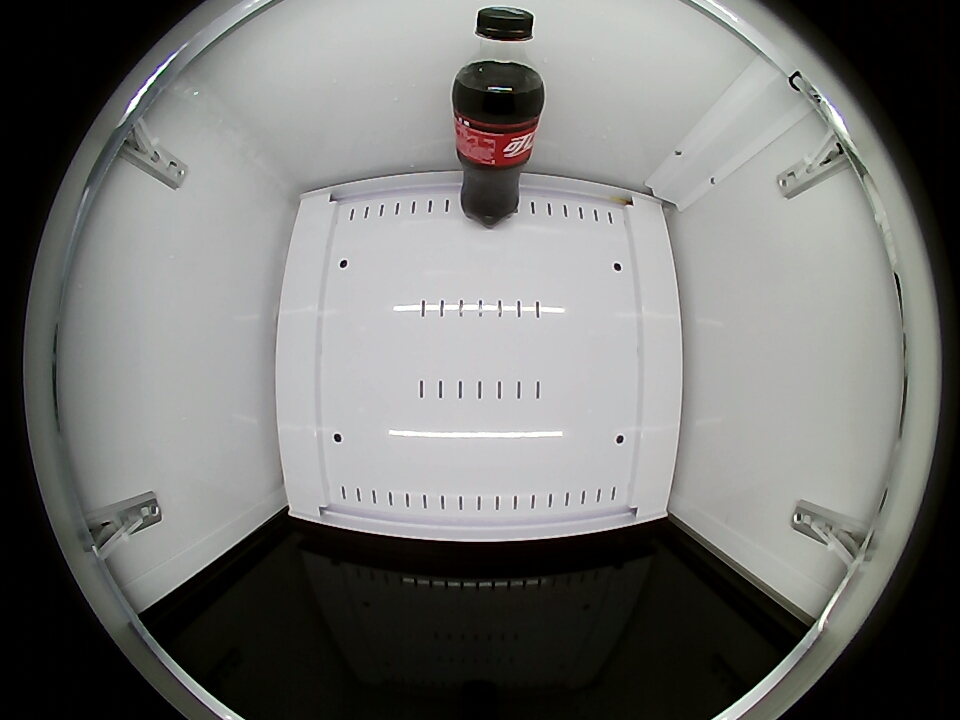lingdukele-b: (455, 6, 541, 104)
